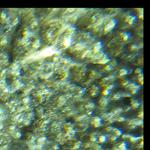dead: (3, 9, 141, 146)
